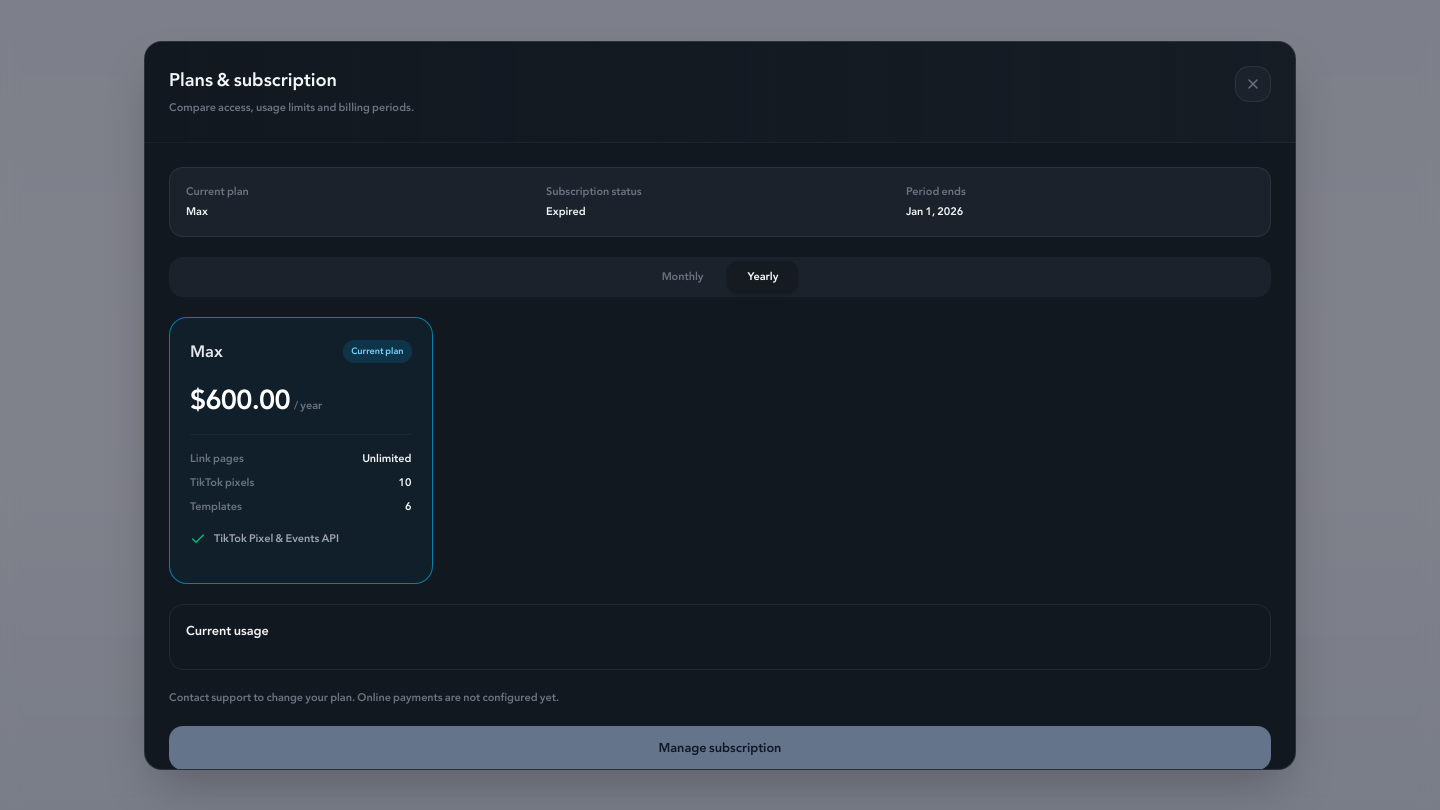
Test: shared subscription catalog › shows the live catalog and monthly/yearly prices in the business dashboard
This screenshot has width=1440, height=810.
Expected: the text "Expired" is shown, [546, 202, 586, 220]
Expected: the text "$600.00" is shown, [190, 376, 290, 424]
Step 1. Click the button "Monthly" → (683, 276), box [642, 260, 724, 292]
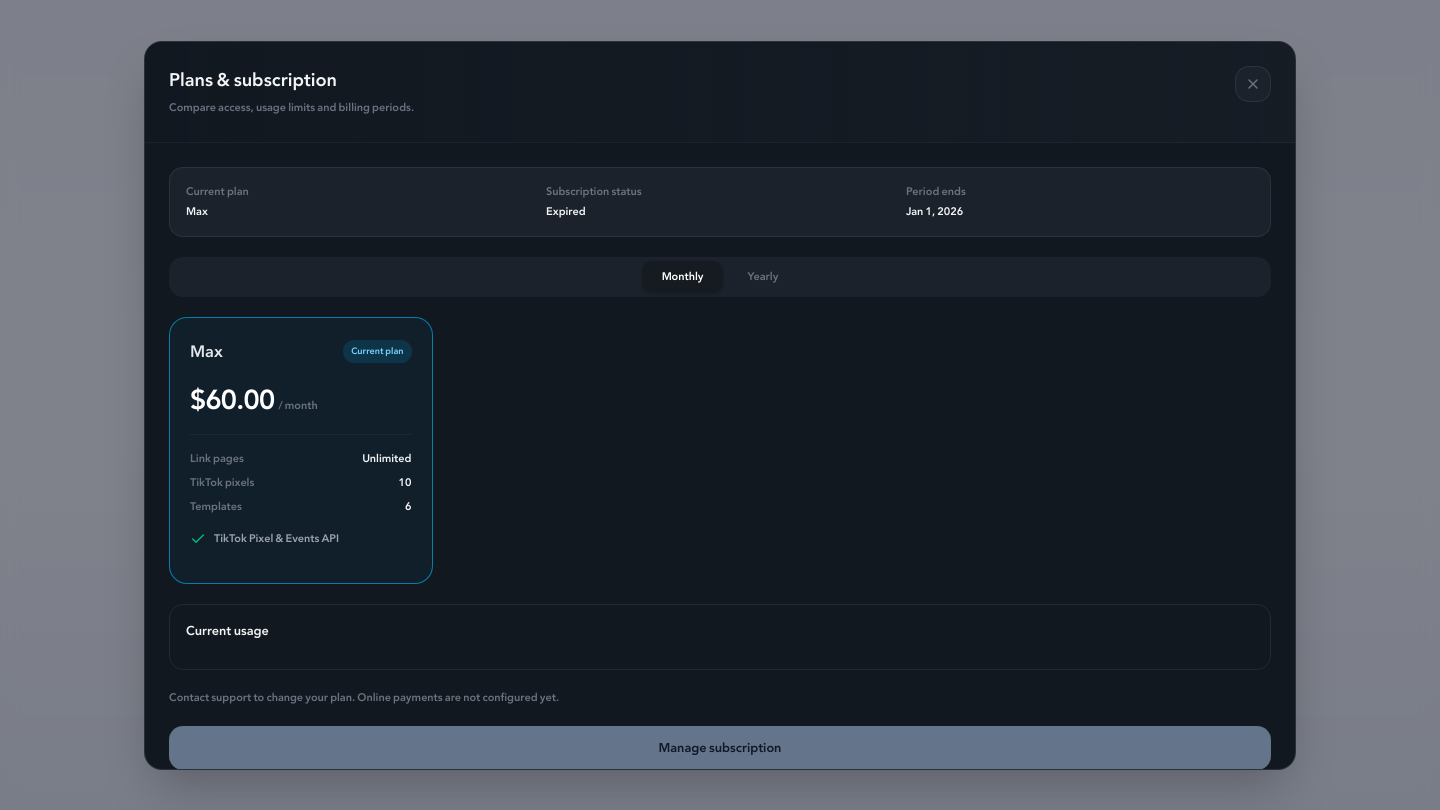
Expected: the text "Online payments are not configured" is shown, [169, 688, 559, 706]
Now the text "$60.00" is shown, box [190, 376, 274, 424]
